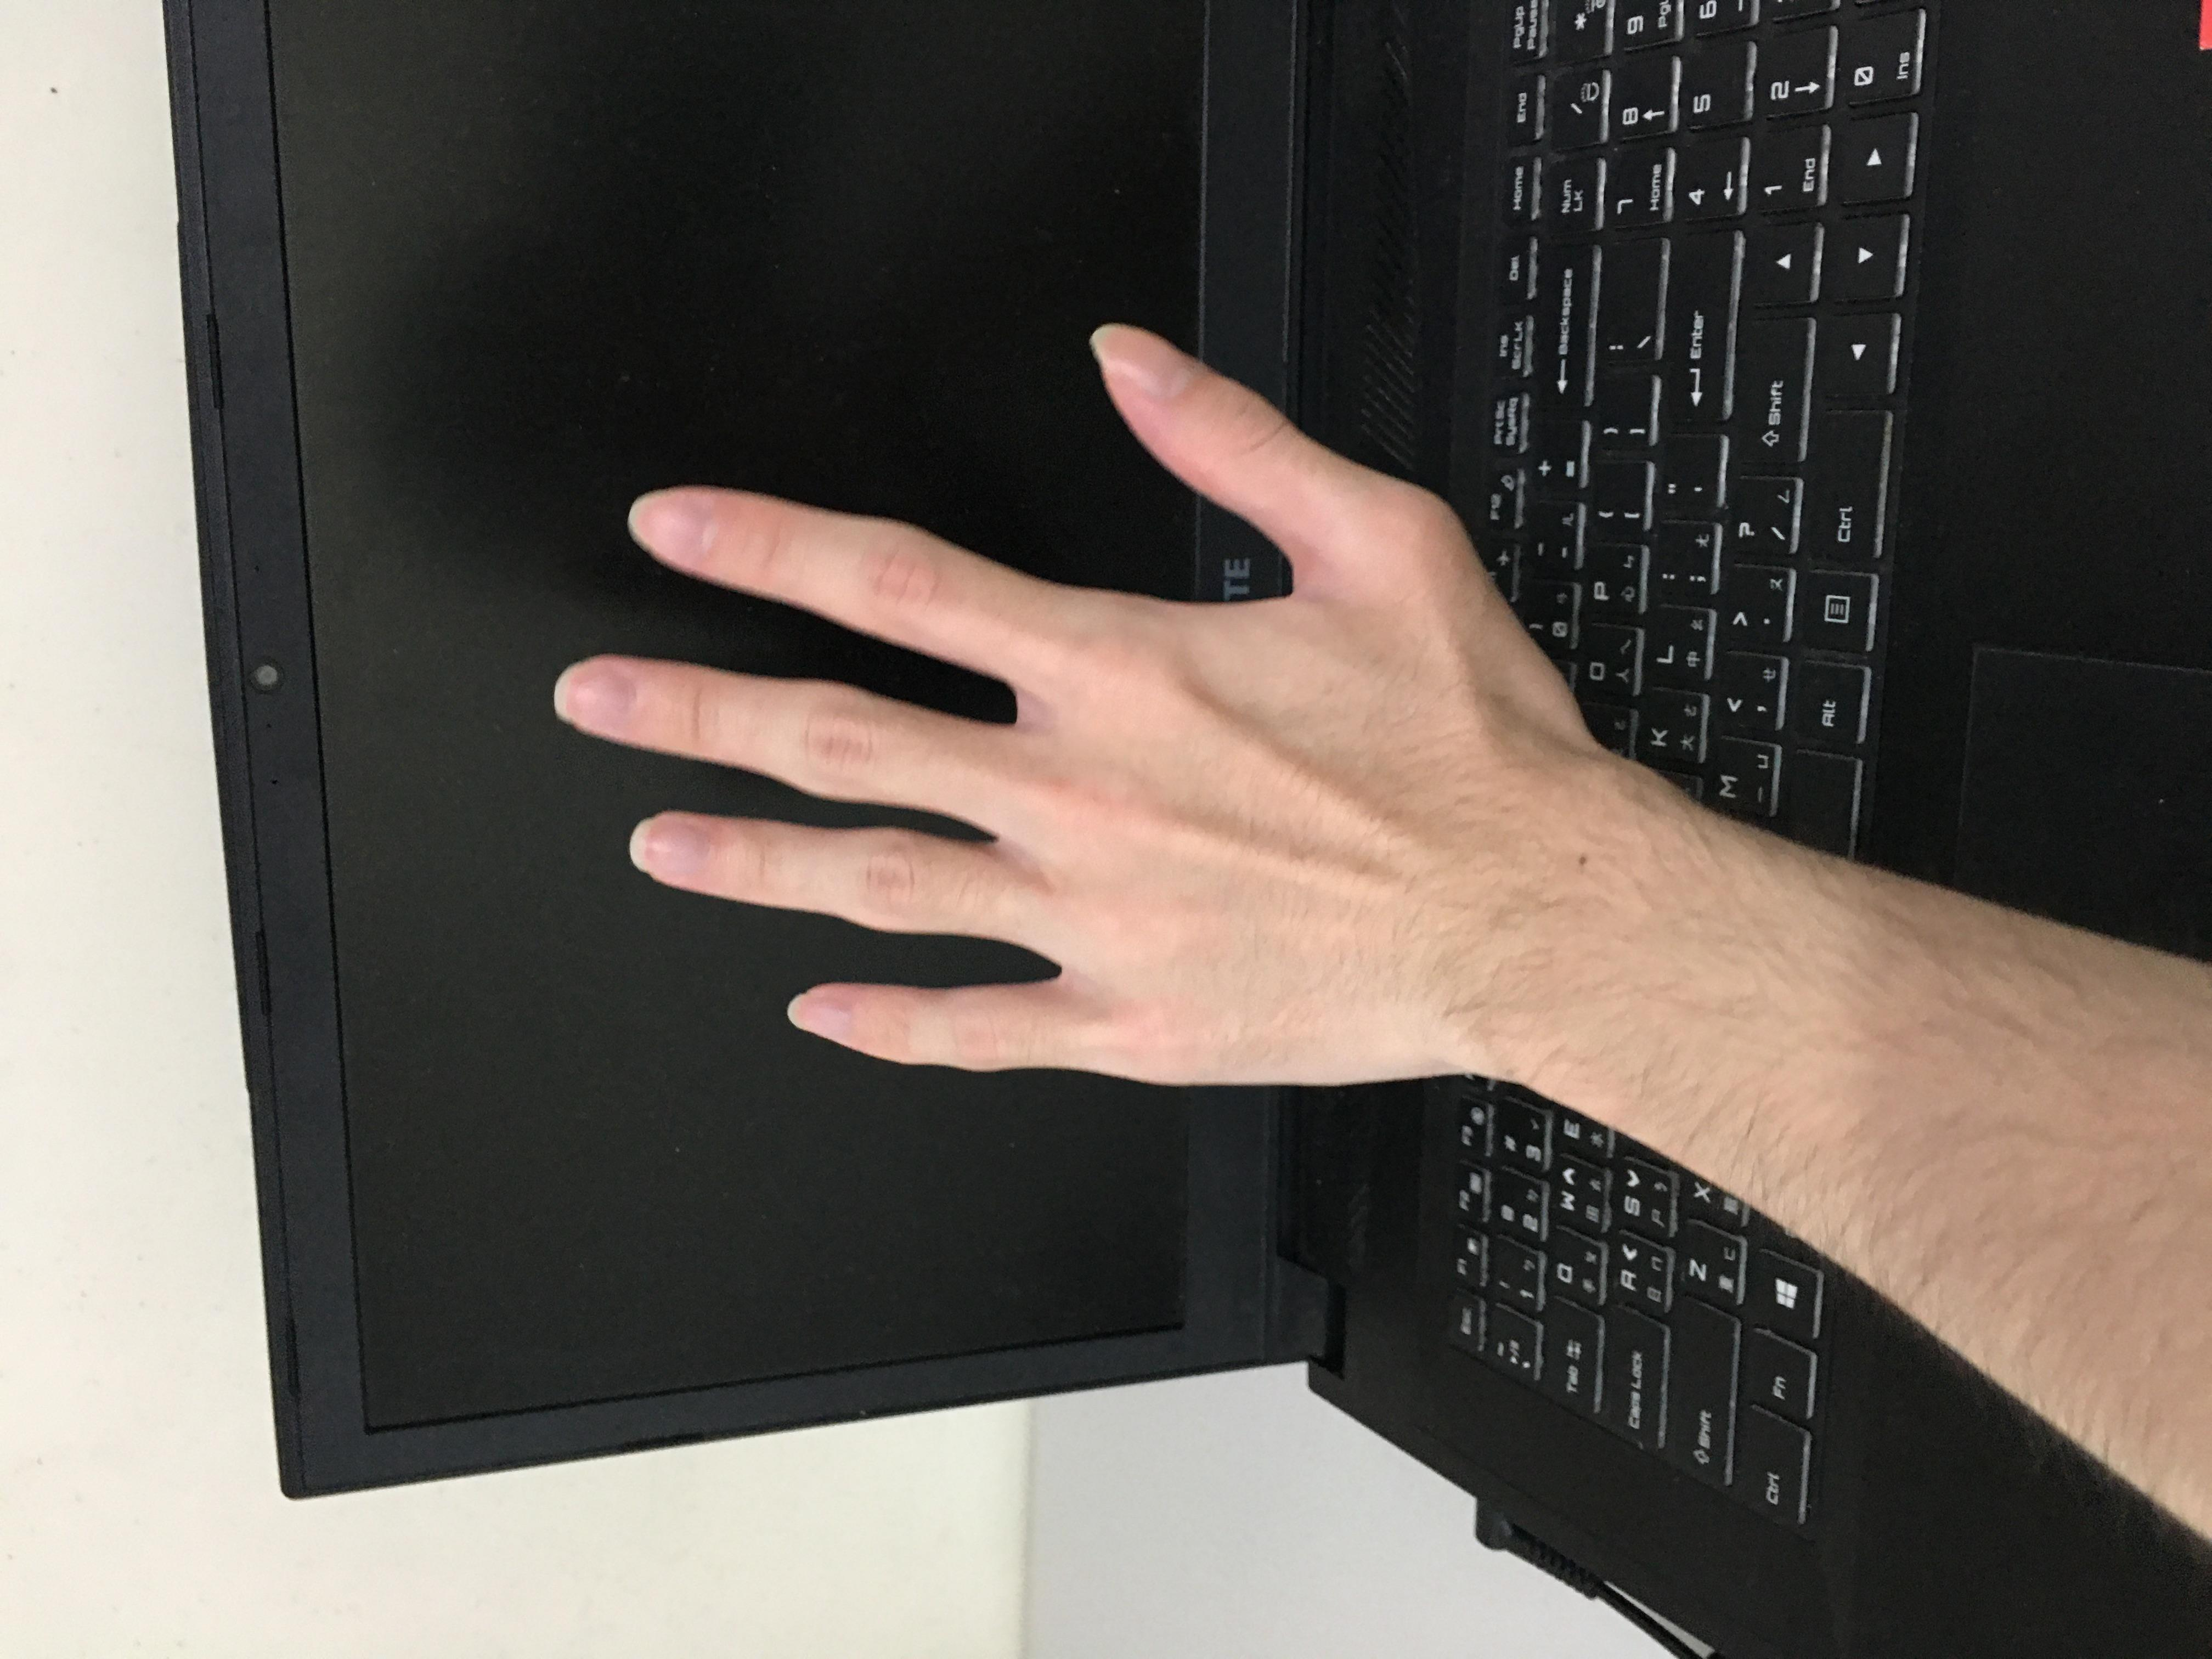hand: (748, 409, 1782, 1164)
